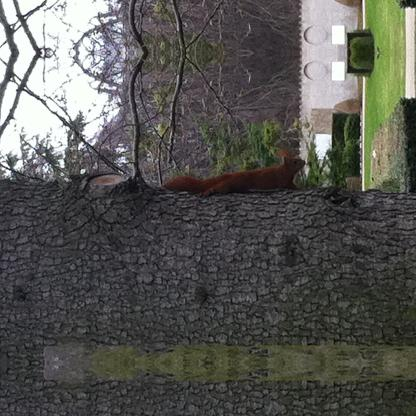Squirrel: (159, 150, 305, 197)
